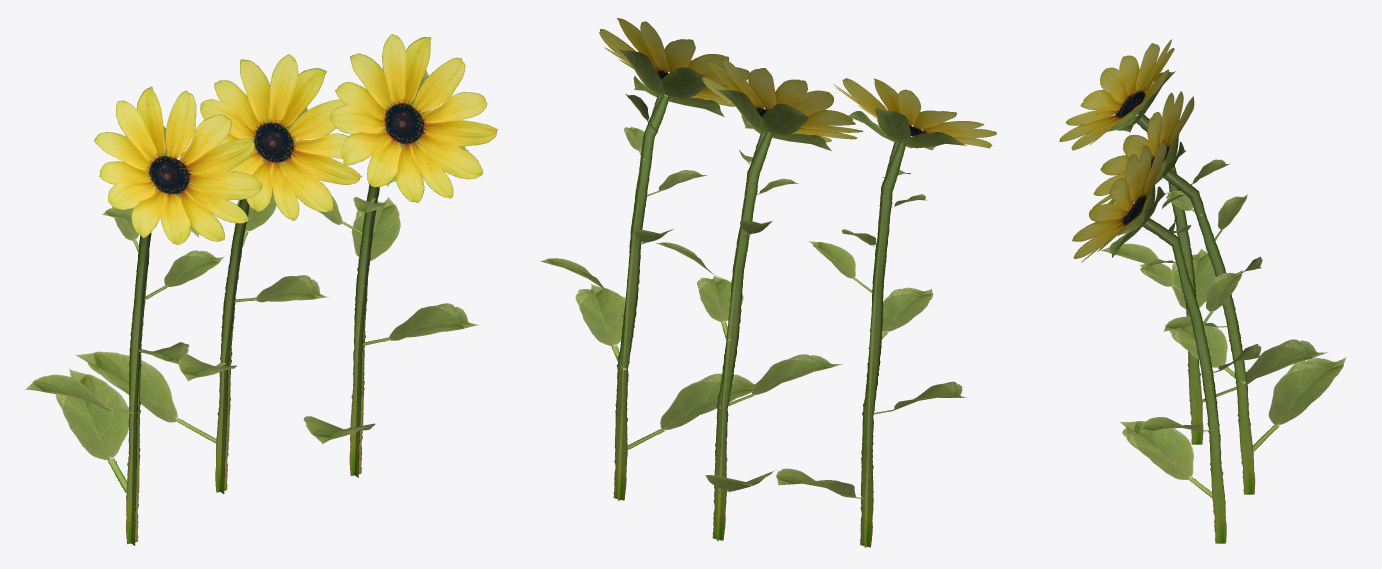
Rendered from SunflowerGroup2_2.fbx.
3 renders of one model, left to right at view 1: azimuth 30°, elevation 25°; view 2: azimuth 150°, elevation 25°; view 3: azimuth 270°, elevation 25°, orthographic. The views are drawn at different scales.
Parts seen in each view (by area): view 1: SunflowerGroup2_2; view 2: SunflowerGroup2_2; view 3: SunflowerGroup2_2.
Boxes of the visible parts, x1,y1,x2,y2 form: SunflowerGroup2_2: (25,34,497,545); SunflowerGroup2_2: (540,18,996,547); SunflowerGroup2_2: (1059,39,1346,543).
Bounding box in the file's own units: 0.7903 × 0.8257 × 0.5629.
